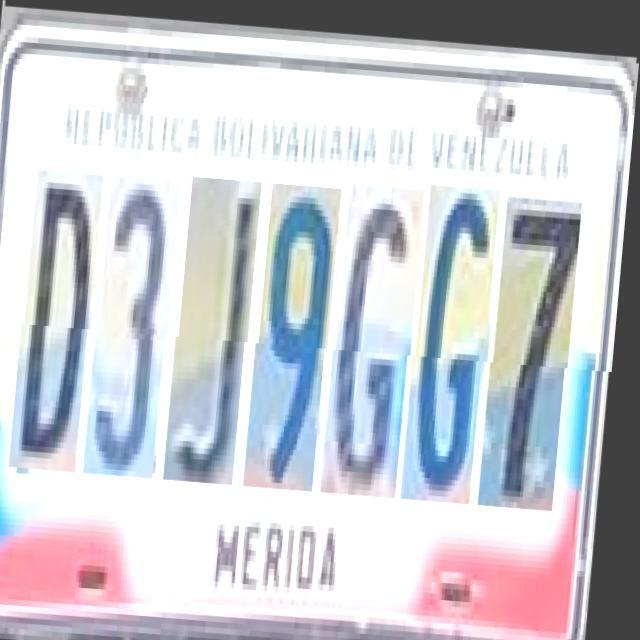3: (94, 174, 184, 476)
7: (489, 188, 585, 501)
9: (254, 178, 344, 486)
D: (20, 170, 107, 470)
G: (332, 178, 428, 490), (412, 177, 502, 496)
J: (174, 174, 264, 481)
